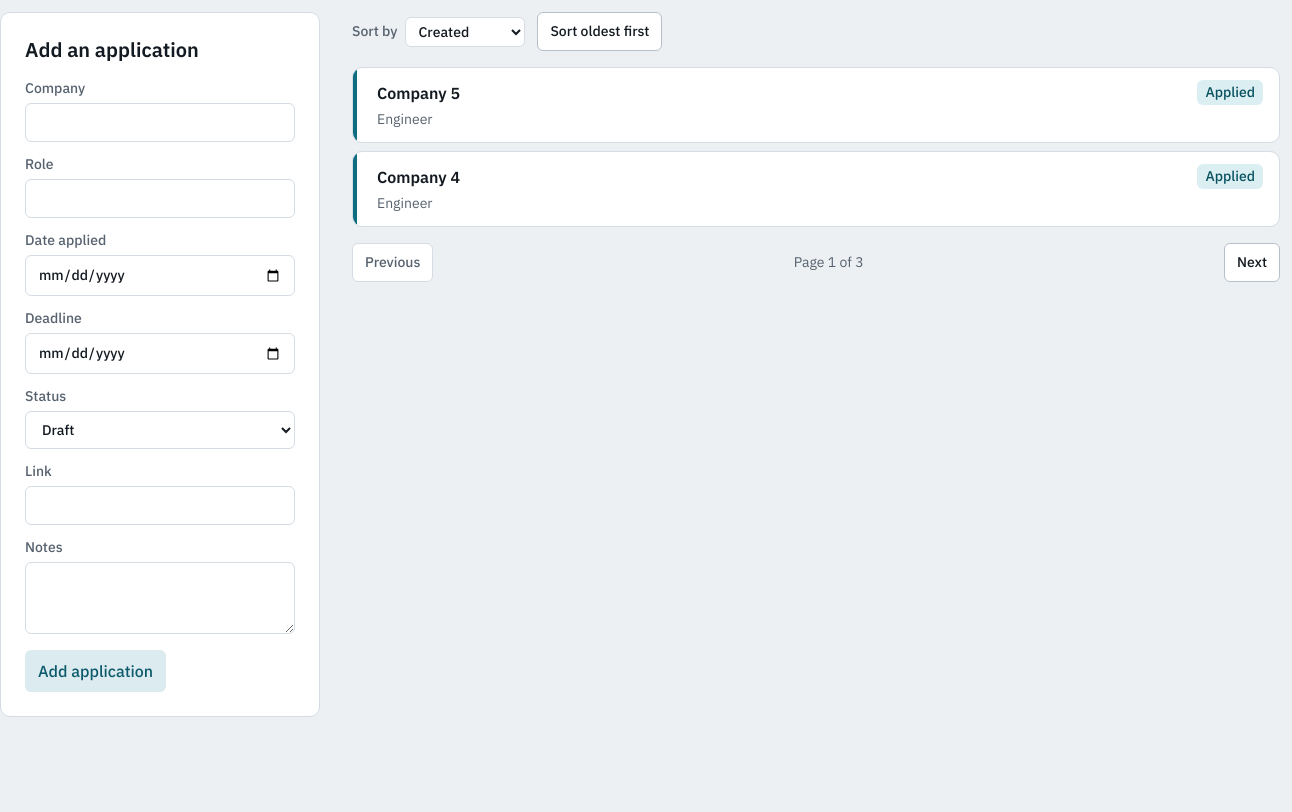
Test case: changing the sort returns to page 1
The width and height of the screenshot is (1292, 812).
Expected: the button "Company 5 Engineer Applied" is shown, [377,80,1263,130]
Click the button "Next" at (1252, 262), box [1224,243,1280,282]
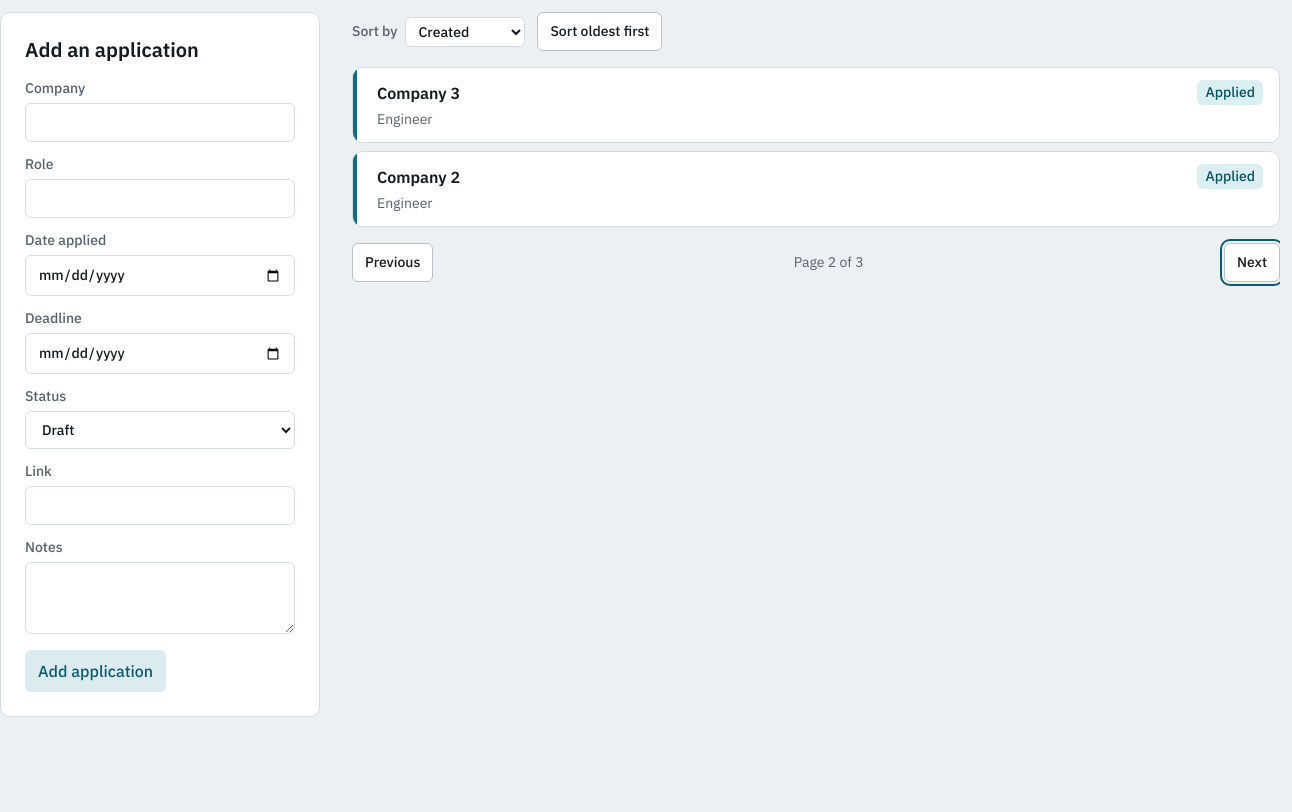
Expected: the text "Page 2 of 3" is shown, [794,252,864,273]
Click the button "Sort oldest first" at (600, 32), box [538,12,662,51]
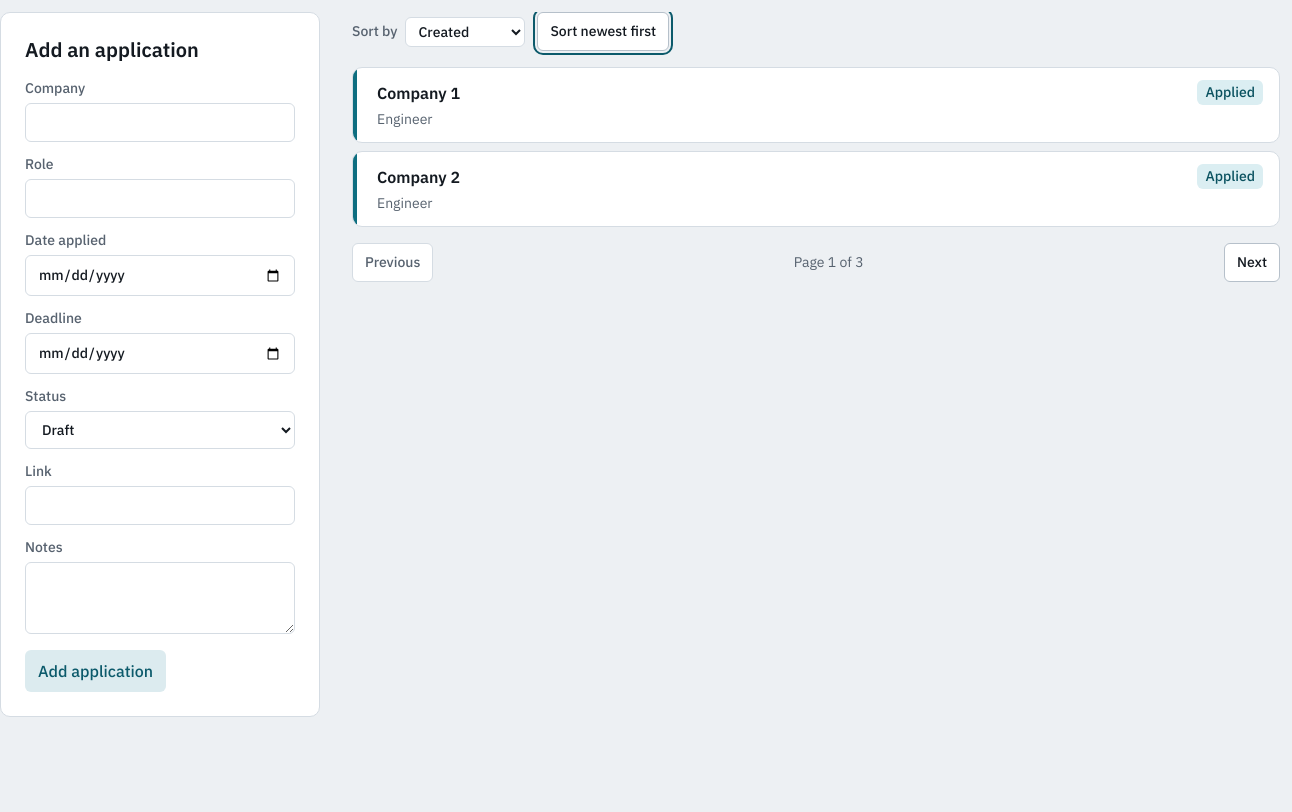
Expected: the text "Page 1 of 3" is shown, [794,252,864,273]
Expected: the button "Company 1 Engineer Applied" is shown, [377,80,1263,130]
